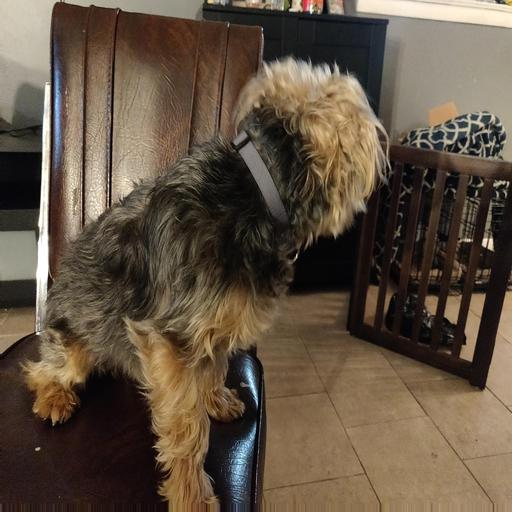dog: (130, 61, 407, 338)
